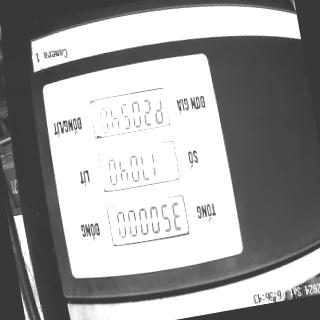screen: (86, 84, 194, 252)
